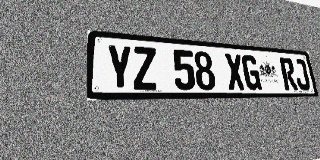5: (172, 49, 196, 90)
8: (193, 51, 216, 90)
G: (241, 55, 262, 90)
J: (292, 59, 311, 90)
R: (279, 57, 298, 90)
X: (224, 53, 246, 90)
Y: (106, 44, 133, 90)
Z: (132, 46, 158, 90)
